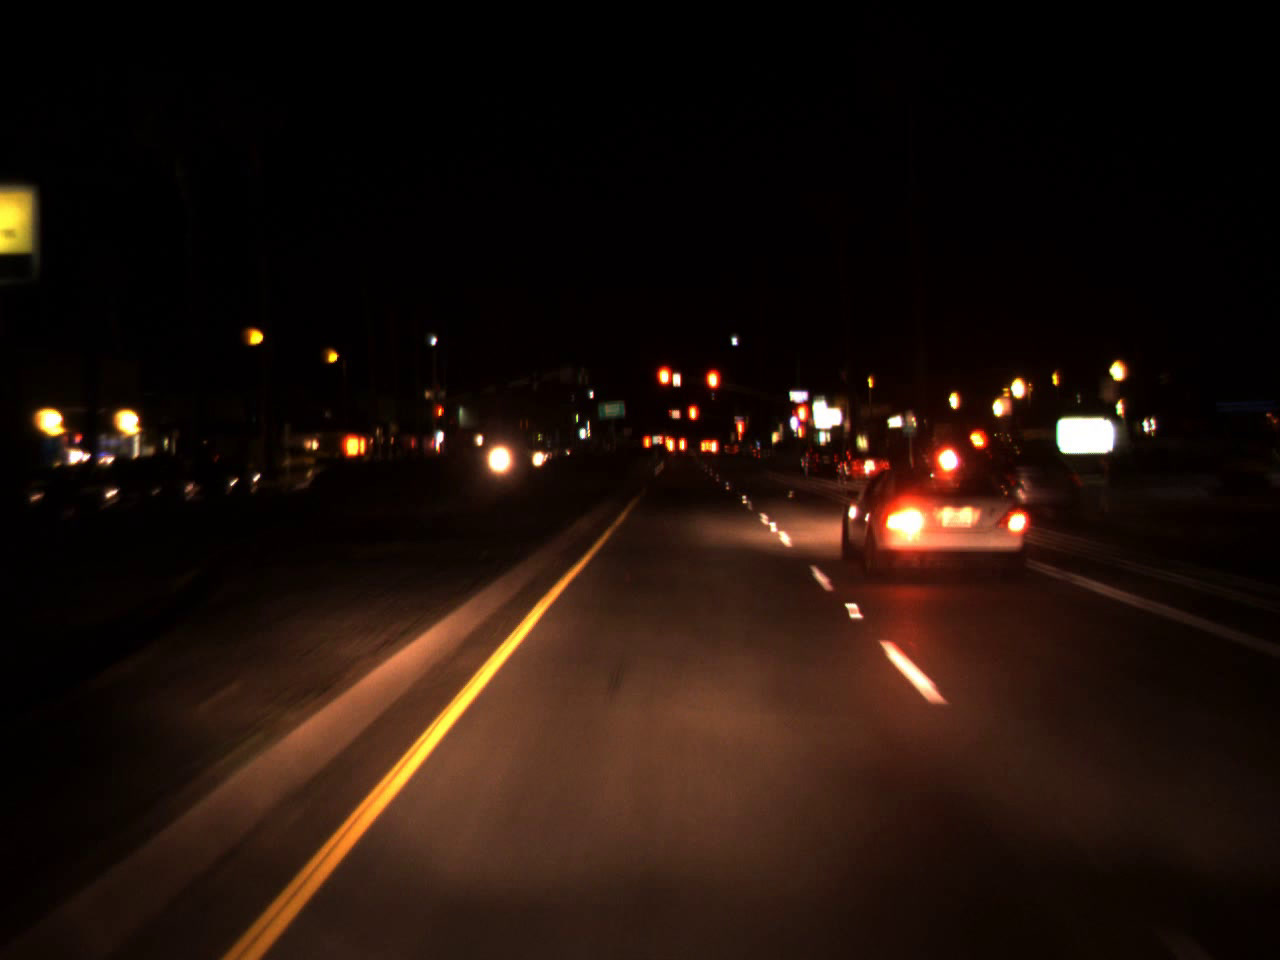stop: (790, 400, 811, 445), (654, 362, 673, 407), (704, 366, 722, 411), (734, 416, 744, 467), (686, 402, 699, 439), (436, 403, 445, 430)
